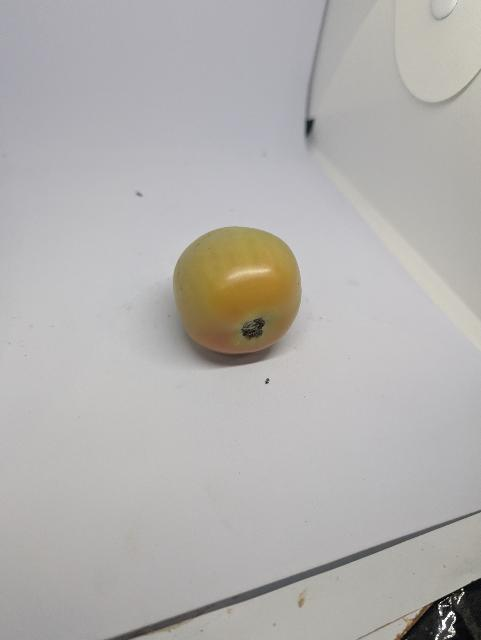breaker: (173, 227, 302, 355)
